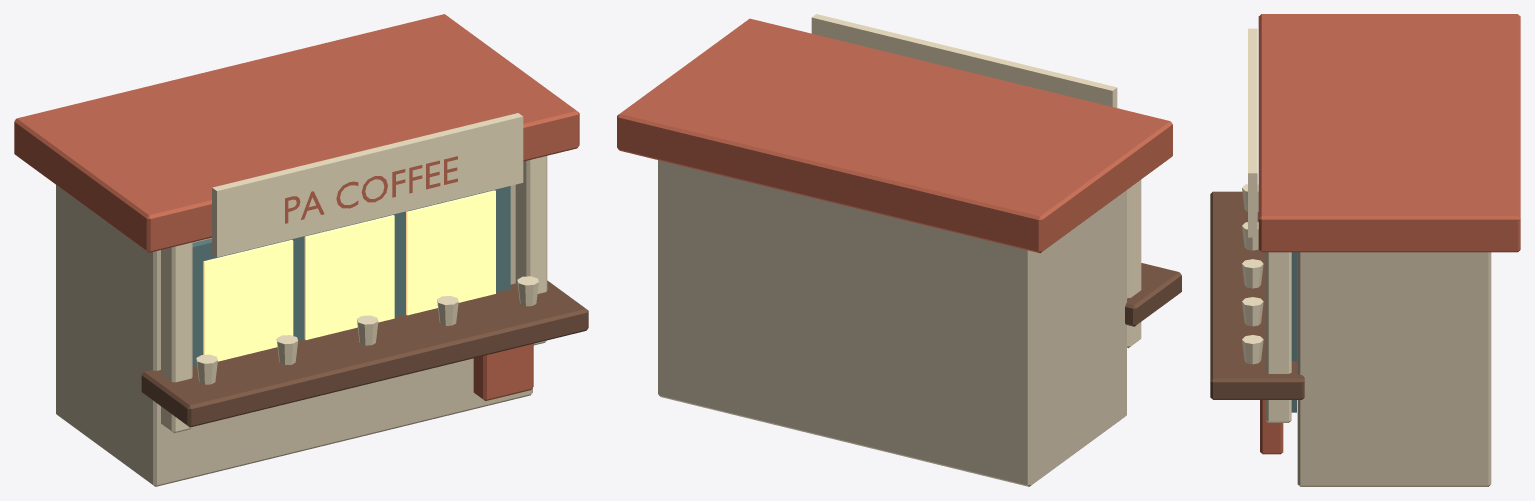
Rendered from tpe_coffee_kiosk.glb.
3 views of the same model, side by side, from view 1: azimuth 30°, elevation 25°; view 2: azimuth 150°, elevation 25°; view 3: azimuth 270°, elevation 25° (orthographic). The views are drawn at different scales.
Visible parts, largest first — view 1: tpe_coffee_kiosk__awning-terracotta, tpe_coffee_kiosk__warm-plaster, tpe_coffee_kiosk__ivory-trim, tpe_coffee_kiosk__warm-window, tpe_coffee_kiosk__dark-walnut, tpe_coffee_kiosk__blue-window; view 2: tpe_coffee_kiosk__warm-plaster, tpe_coffee_kiosk__awning-terracotta, tpe_coffee_kiosk__ivory-trim, tpe_coffee_kiosk__dark-walnut; view 3: tpe_coffee_kiosk__awning-terracotta, tpe_coffee_kiosk__warm-plaster, tpe_coffee_kiosk__dark-walnut, tpe_coffee_kiosk__ivory-trim, tpe_coffee_kiosk__blue-window.
Part boxes in pixels (bbox=[...]): tpe_coffee_kiosk__awning-terracotta: bbox=[14, 14, 579, 400]; tpe_coffee_kiosk__warm-plaster: bbox=[56, 184, 532, 486]; tpe_coffee_kiosk__ivory-trim: bbox=[161, 113, 547, 433]; tpe_coffee_kiosk__warm-window: bbox=[203, 190, 495, 361]; tpe_coffee_kiosk__dark-walnut: bbox=[141, 280, 588, 427]; tpe_coffee_kiosk__blue-window: bbox=[192, 186, 510, 366]; tpe_coffee_kiosk__warm-plaster: bbox=[658, 160, 1126, 486]; tpe_coffee_kiosk__awning-terracotta: bbox=[617, 18, 1172, 253]; tpe_coffee_kiosk__ivory-trim: bbox=[811, 14, 1141, 348]; tpe_coffee_kiosk__dark-walnut: bbox=[1125, 263, 1181, 326]; tpe_coffee_kiosk__awning-terracotta: bbox=[1258, 14, 1520, 454]; tpe_coffee_kiosk__warm-plaster: bbox=[1297, 252, 1491, 486]; tpe_coffee_kiosk__dark-walnut: bbox=[1210, 191, 1304, 399]; tpe_coffee_kiosk__ivory-trim: bbox=[1242, 28, 1291, 422]; tpe_coffee_kiosk__blue-window: bbox=[1291, 252, 1296, 412].
Bounding box in the file's own units: 39.2 × 26.58 × 25.15.
